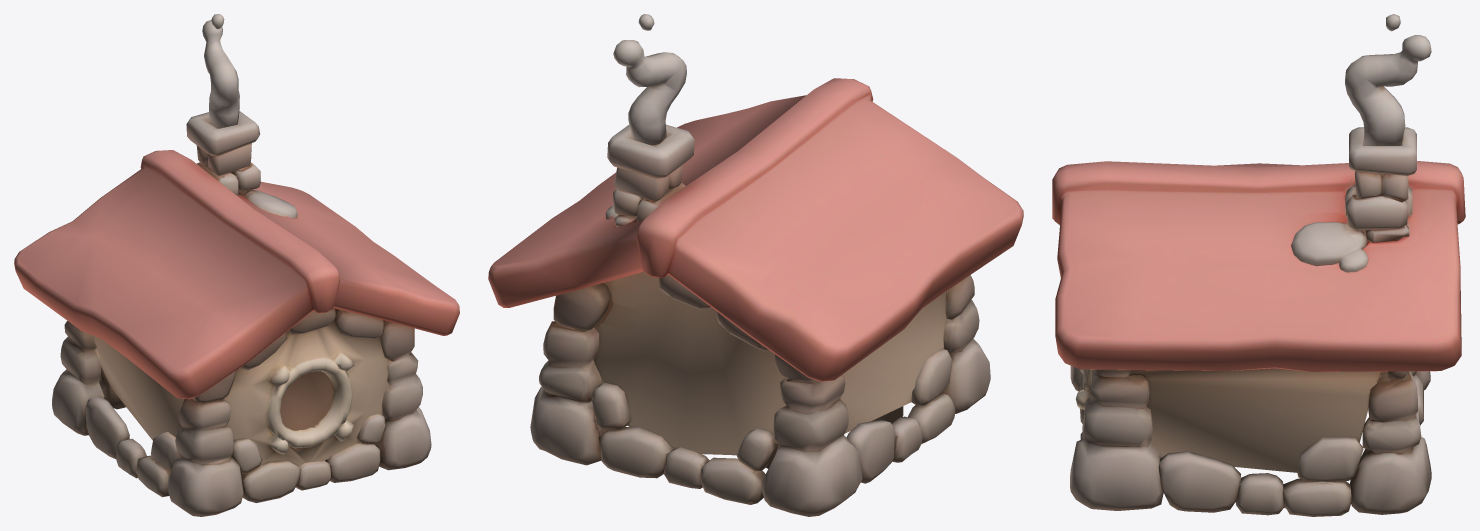
File: coral-boulder-hut.glb
3 views of the same model, side by side, from view 1: azimuth 30°, elevation 25°; view 2: azimuth 150°, elevation 25°; view 3: azimuth 270°, elevation 25° (orthographic). The views are drawn at different scales.
Parts seen in each view (by area): view 1: Coral Boulder Hut; view 2: Coral Boulder Hut; view 3: Coral Boulder Hut.
Boxes of the visible parts, x1,y1,x2,y2 form: Coral Boulder Hut: (14,14,459,516); Coral Boulder Hut: (488,14,1023,516); Coral Boulder Hut: (1052,14,1465,516).
Size of the model in its own units: 0.8223 by 0.998 by 0.8301.
1 material, 1 textured.
